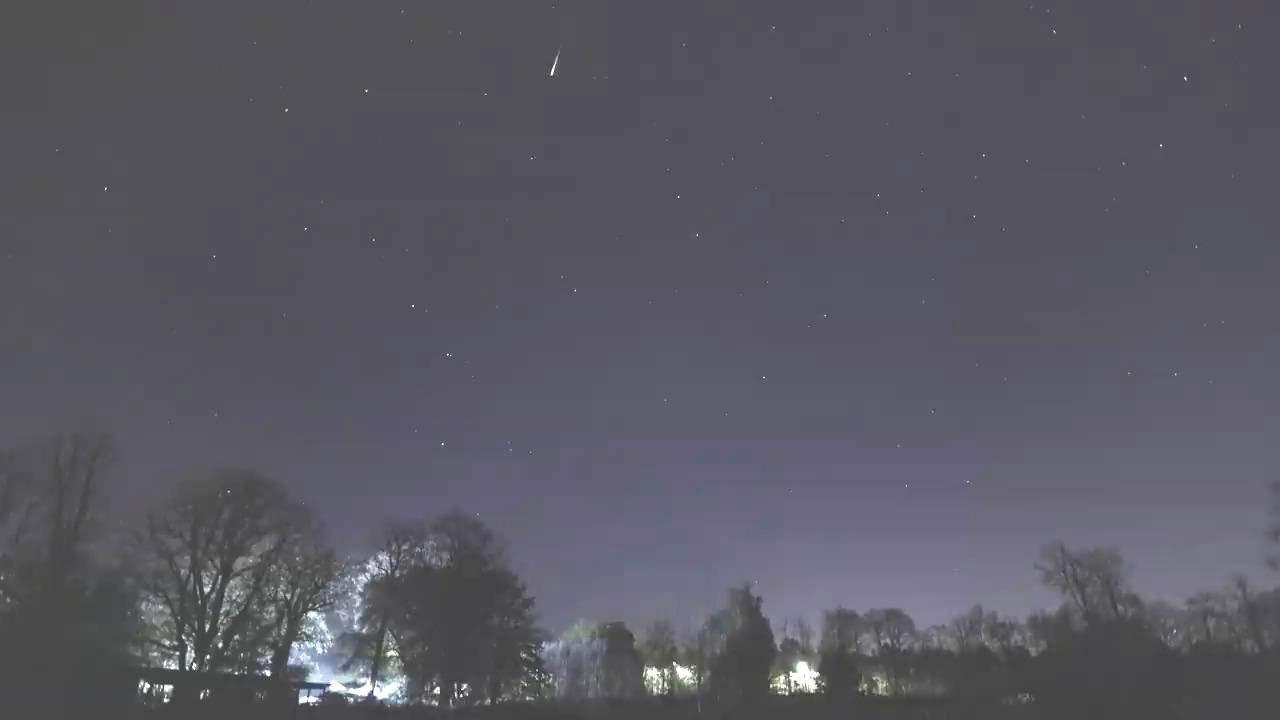meteorite: (505, 46, 610, 82)
